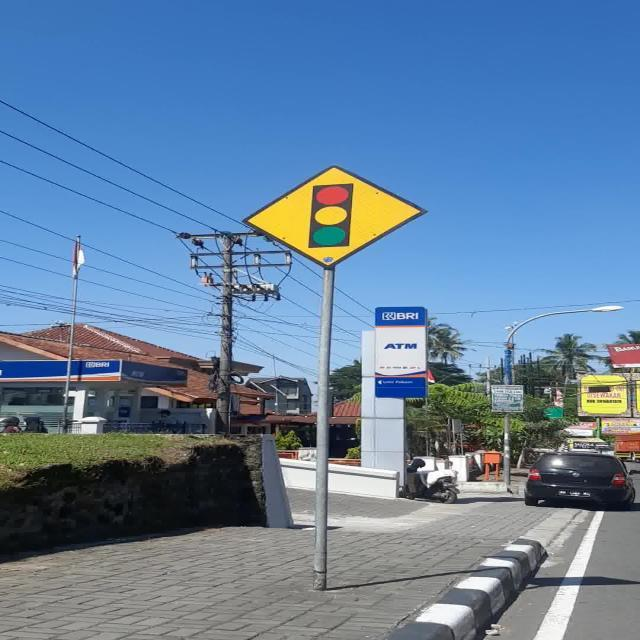Lampu Lalu Lintas: (242, 166, 427, 268)
